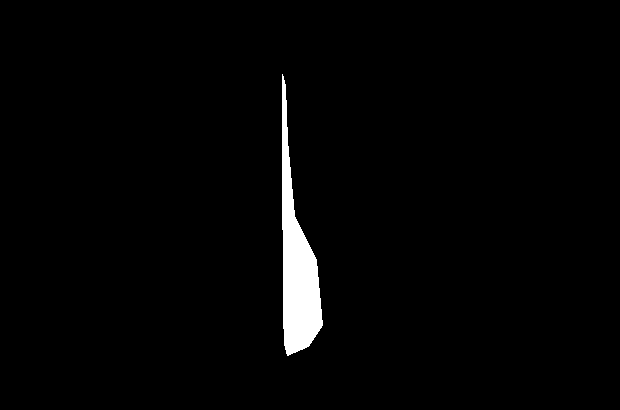type5: (275, 71, 324, 357)
